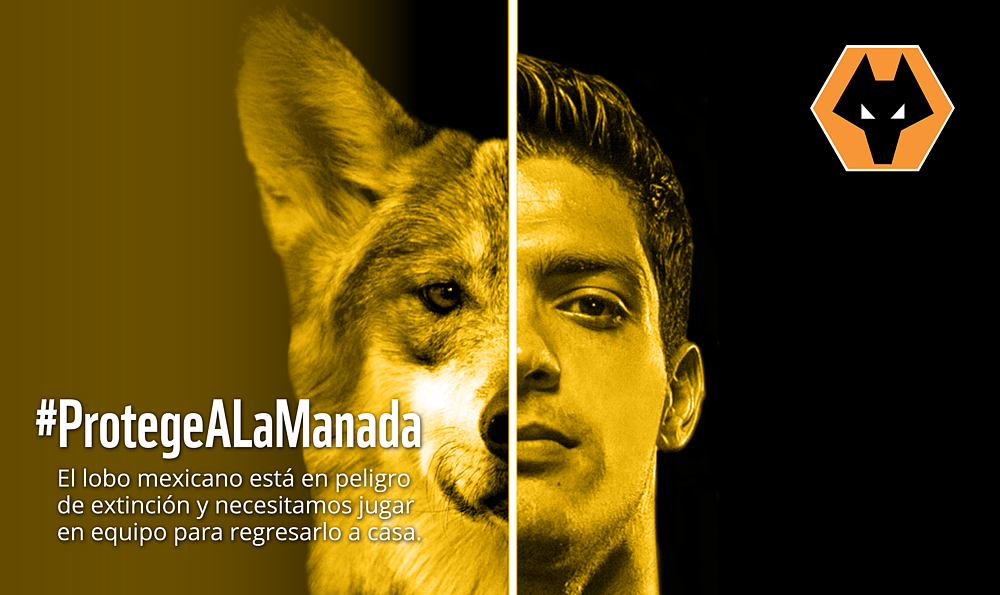Lobo: (181, 15, 503, 567)
